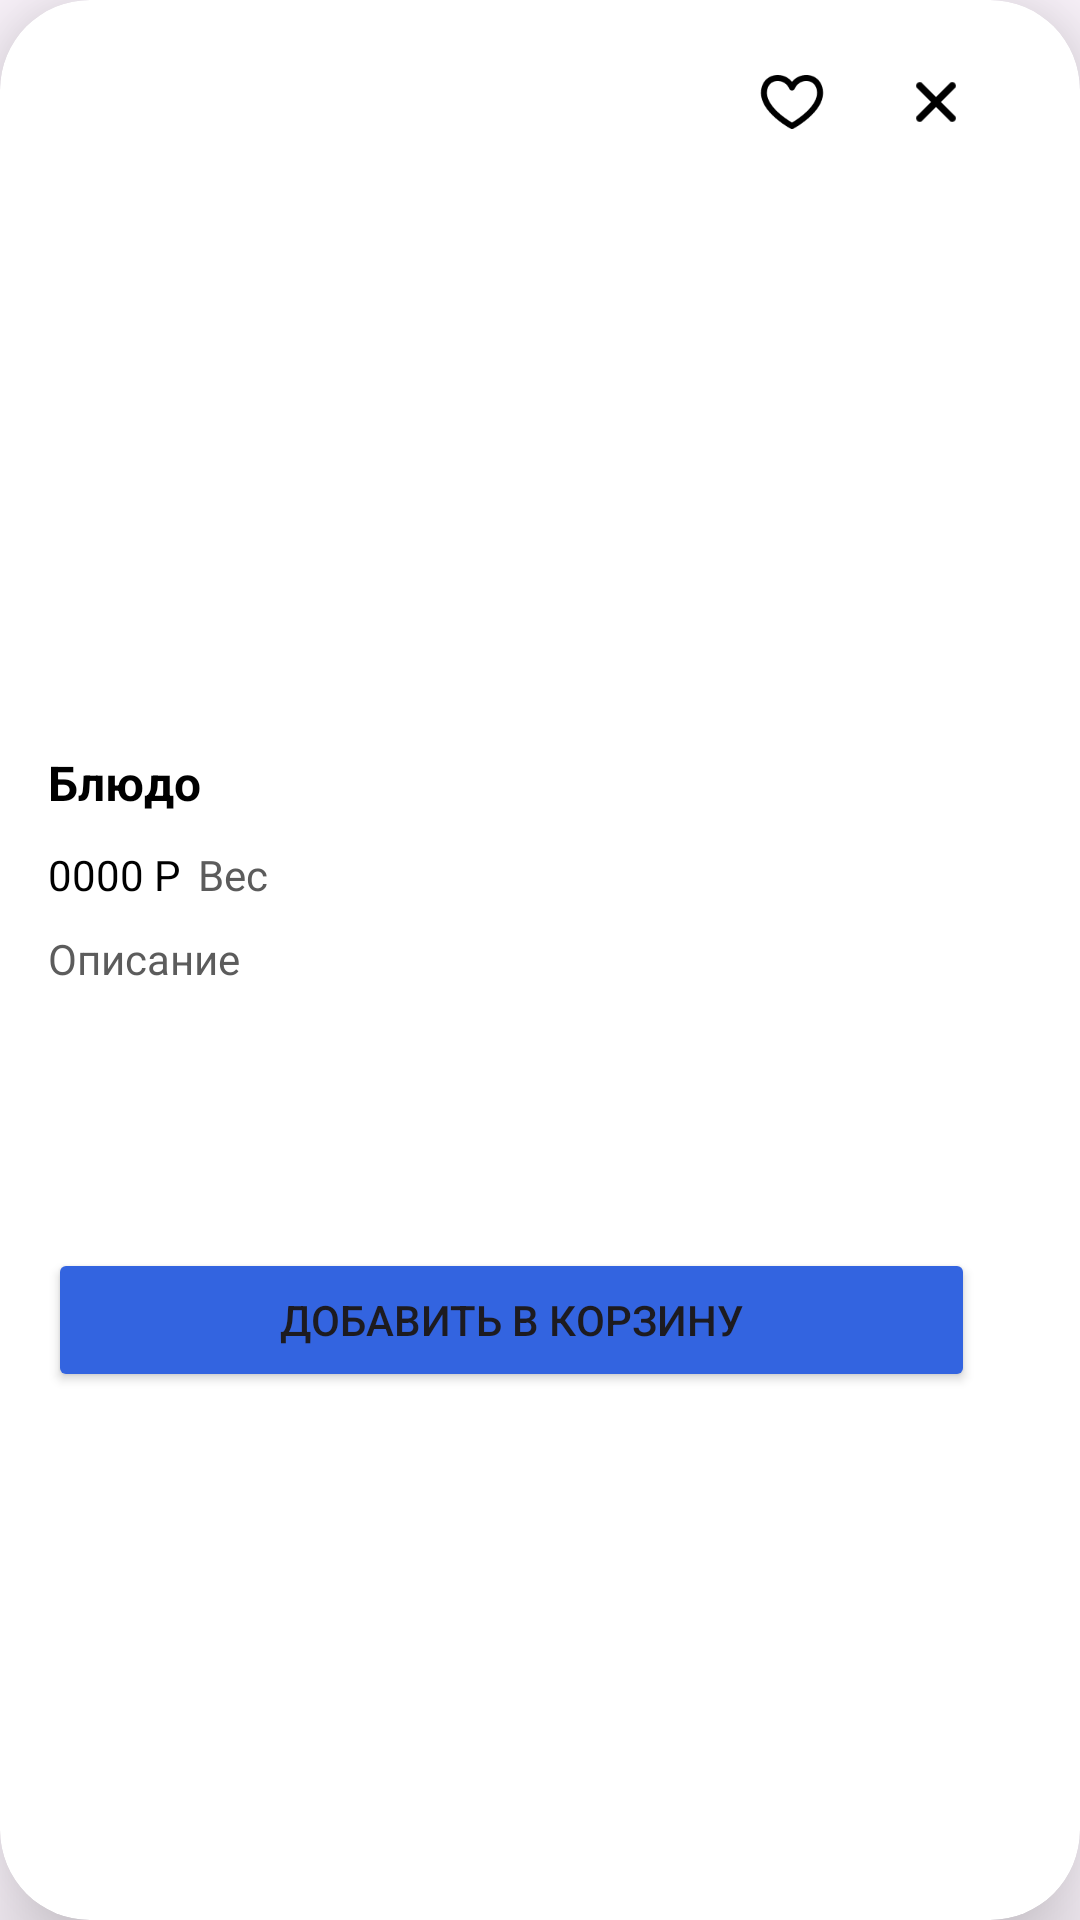

Screen size 1080 x 1920. Icon name, then its center in pixels as (x=x, y=y):
like: (x=792, y=102)
